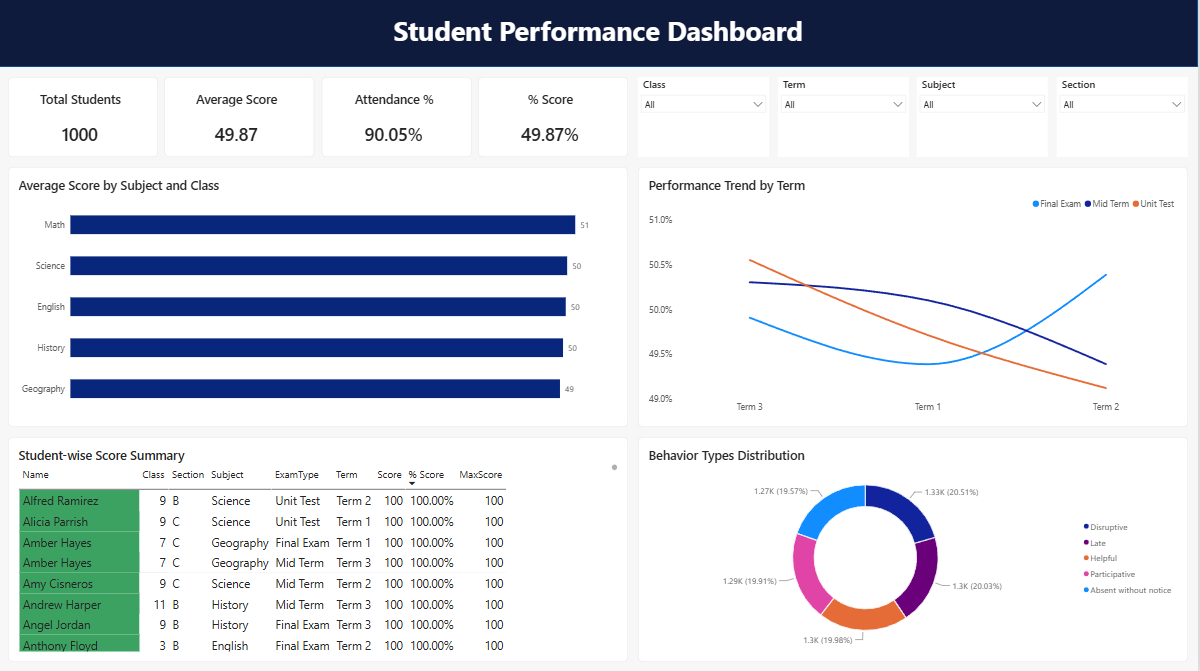

The dashboard page shown, as its layout file describes it:
{"tool":"powerbi","page":{"name":"Academic Performance","canvas":[1920,1080],"ordinal":0},"visuals":[{"type":"cardVisual","title":"Total Students","fields":{"Data":["Measures_Table.Total_Students"]},"box":[16,128,240,128],"z":0,"group":"g2"},{"type":"slicer","fields":{"Values":["Students.Class"]},"box":[1024,128,209.5,128],"z":0,"group":"g1"},{"type":"barChart","title":"Average Score by Subject and Class","fields":{"Category":["Scores.Subject"],"Y":["Measures_Table.Average_Score"]},"box":[16,272,992,416],"z":0},{"type":"cardVisual","title":"Average Score","fields":{"Data":["Measures_Table.Average_Score"]},"box":[266.7,128,240,128],"z":1000,"group":"g2"},{"type":"slicer","fields":{"Values":["Students.Section"]},"box":[1694.5,128,209.5,128],"z":1000,"group":"g1"},{"type":"lineChart","title":"Performance Trend by Term","fields":{"Category":["Scores.Term"],"Series":["Scores.ExamType"],"Y":["Measures_Table.% Score"]},"box":[1024,272,880,416],"z":1000},{"type":"cardVisual","title":"Attendance % ","fields":{"Data":["Measures_Table.Attendance_%"]},"box":[517.3,128,240,128],"z":2000,"group":"g2"},{"type":"slicer","fields":{"Values":["Scores.Subject"]},"box":[1471,128,209.5,128],"z":2000,"group":"g1"},{"type":"tableEx","title":"Student-wise Score Summary","fields":{"Values":["Students.Name","Sum(Students.Class)","Students.Section","Scores.Subject","Scores.ExamType","Scores.Term","Sum(Scores.Score)","Measures_Table.% Score","Sum(Scores.MaxScore)"]},"box":[16,704,992,360],"z":2000},{"type":"cardVisual","title":"% Score","fields":{"Data":["Measures_Table.% Score"]},"box":[768,128,240,128],"z":3000,"group":"g2"},{"type":"slicer","fields":{"Values":["Scores.Term"]},"box":[1247.5,128,209.5,128],"z":3000,"group":"g1"},{"type":"donutChart","title":"Behavior Types Distribution","fields":{"Category":["Behavior.BehaviorType"],"Y":["CountNonNull(Behavior.BehaviorType)"]},"box":[1024,704,880,360],"z":3000},{"type":"shape","box":[0,0,1920,112],"z":4000},{"type":"textbox","box":[0,24,1920,72],"z":5000},{"type":"group","id":"g1","title":"Slicers","box":[1024,128,880,128],"z":6000},{"type":"group","id":"g2","title":"KPI Cards","box":[16,128,992,128],"z":7000}]}

Visuals, with their boxes in screenshot pixels (x1, y1, x2, y2), scaled from the page's 1920x1080 canvas onto the 1200x671 screenshot:
"Total Students" cardVisual: (10, 80, 160, 159)
slicer - Students.Class: (640, 80, 771, 159)
"Average Score by Subject and Class" barChart: (10, 169, 630, 427)
"Average Score" cardVisual: (167, 80, 317, 159)
slicer - Students.Section: (1059, 80, 1190, 159)
"Performance Trend by Term" lineChart: (640, 169, 1190, 427)
"Attendance % " cardVisual: (323, 80, 473, 159)
slicer - Scores.Subject: (919, 80, 1050, 159)
"Student-wise Score Summary" tableEx: (10, 437, 630, 661)
"% Score" cardVisual: (480, 80, 630, 159)
slicer - Scores.Term: (780, 80, 911, 159)
"Behavior Types Distribution" donutChart: (640, 437, 1190, 661)
shape: (0, 0, 1199, 70)
textbox: (0, 15, 1199, 60)
"Slicers" group: (640, 80, 1190, 159)
"KPI Cards" group: (10, 80, 630, 159)
